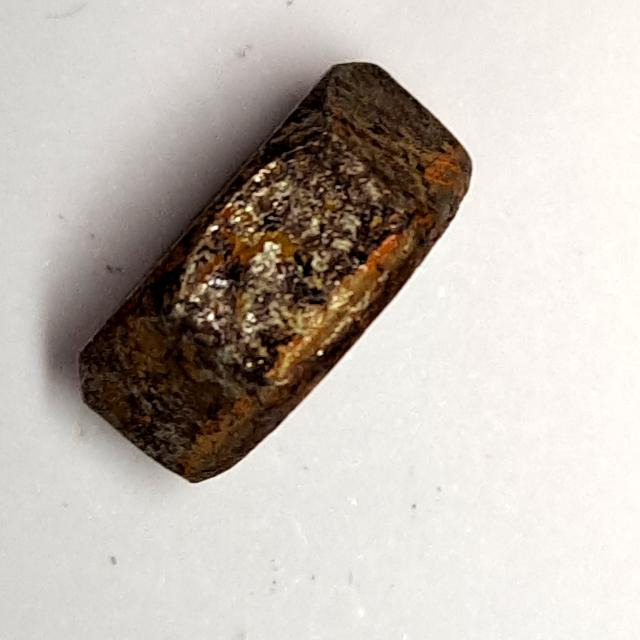Side_Rust: (64, 46, 483, 500)
